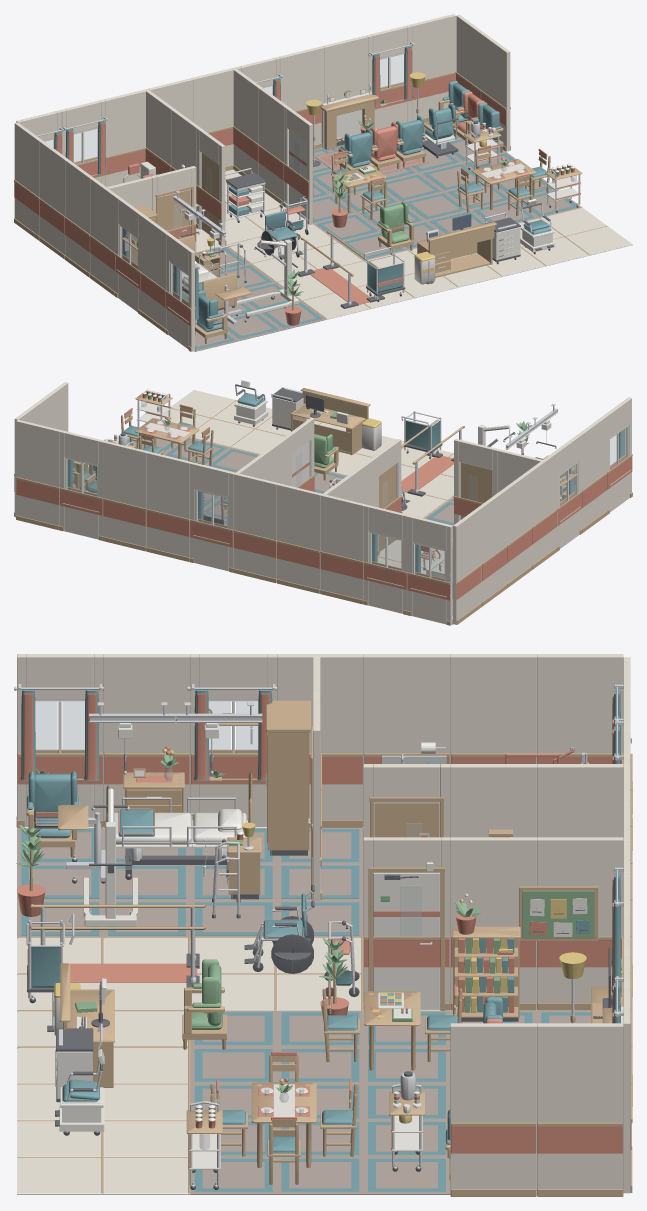
File: care-home-and-day-room-care-home-floor-cfe42faf-starter-scene__35769.glb
3 renders of one model, top to bottom at view 1: azimuth 30°, elevation 25°; view 2: azimuth 150°, elevation 25°; view 3: azimuth 270°, elevation 25°, orthographic. The views are drawn at different scales.
Parts seen in each view (by area): view 1: 079-care-home-wall-module/0, 072-care-home-wall-module/0, 076-care-home-wall-module/0, 077-care-home-wall-module/0, 074-care-home-wall-module/0, 154-nurse-station-desk/0, 082-care-home-wall-module/0, 083-care-home-wall-module/0, 088-care-home-wall-module/0, 080-care-home-wall-module/0, 085-care-home-wall-module/0, 081-care-home-wall-module/0 (+77 smaller); view 2: 077-care-home-wall-module/0, 073-care-home-wall-module/0, 074-care-home-wall-module/0, 079-care-home-wall-module/0, 072-care-home-wall-module/0, 076-care-home-wall-module/0, 070-bedroom-window-module/0, 078-bedroom-window-module/0, 071-bedroom-window-module/0, 075-bedroom-window-module/0, 154-nurse-station-desk/0, 080-care-home-wall-module/0 (+66 smaller); view 3: 087-care-home-wall-module/0, 088-care-home-wall-module/0, 081-care-home-wall-module/0, 082-care-home-wall-module/0, 085-care-home-wall-module/0, 080-care-home-wall-module/0, 083-care-home-wall-module/0, 093-care-home-wall-module/0, 092-care-home-wall-module/0, 100-bedroom-wardrobe/0, 089-care-home-wall-module/0, 090-care-home-wall-module/0 (+127 smaller).
Part boxes in pixels (left/top/right/bottom): 079-care-home-wall-module/0: left=410, top=14, right=455, bottom=120; 072-care-home-wall-module/0: left=104, top=89, right=148, bottom=186; 076-care-home-wall-module/0: left=279, top=46, right=324, bottom=144; 077-care-home-wall-module/0: left=323, top=35, right=368, bottom=102; 074-care-home-wall-module/0: left=191, top=67, right=236, bottom=166; 154-nurse-station-desk/0: left=417, top=222, right=496, bottom=277; 082-care-home-wall-module/0: left=65, top=159, right=93, bottom=273; 083-care-home-wall-module/0: left=90, top=178, right=118, bottom=291; 088-care-home-wall-module/0: left=481, top=33, right=510, bottom=151; 080-care-home-wall-module/0: left=14, top=122, right=42, bottom=236; 085-care-home-wall-module/0: left=141, top=215, right=169, bottom=328; 081-care-home-wall-module/0: left=40, top=141, right=68, bottom=254; 077-care-home-wall-module/0: left=103, top=441, right=148, bottom=550; 073-care-home-wall-module/0: left=277, top=483, right=321, bottom=593; 074-care-home-wall-module/0: left=233, top=472, right=278, bottom=582; 079-care-home-wall-module/0: left=16, top=419, right=61, bottom=525; 072-care-home-wall-module/0: left=320, top=494, right=365, bottom=600; 076-care-home-wall-module/0: left=146, top=451, right=191, bottom=557; 070-bedroom-window-module/0: left=407, top=515, right=452, bottom=625; 078-bedroom-window-module/0: left=59, top=430, right=104, bottom=539; 071-bedroom-window-module/0: left=364, top=504, right=408, bottom=613; 075-bedroom-window-module/0: left=190, top=462, right=234, bottom=571; 154-nurse-station-desk/0: left=291, top=388, right=370, bottom=455; 080-care-home-wall-module/0: left=453, top=507, right=481, bottom=624; 087-care-home-wall-module/0: left=537, top=1023, right=623, bottom=1196; 088-care-home-wall-module/0: left=450, top=1023, right=536, bottom=1196; 081-care-home-wall-module/0: left=450, top=654, right=536, bottom=763; 082-care-home-wall-module/0: left=363, top=654, right=450, bottom=763; 085-care-home-wall-module/0: left=103, top=654, right=190, bottom=826; 080-care-home-wall-module/0: left=537, top=654, right=623, bottom=763; 083-care-home-wall-module/0: left=277, top=654, right=363, bottom=826; 093-care-home-wall-module/0: left=450, top=837, right=536, bottom=1009; 092-care-home-wall-module/0: left=537, top=837, right=623, bottom=1009; 100-bedroom-wardrobe/0: left=266, top=700, right=310, bottom=850; 089-care-home-wall-module/0: left=537, top=764, right=623, bottom=837; 090-care-home-wall-module/0: left=450, top=764, right=536, bottom=837.
Bounding box in the file's own units: 12.25 × 2.62 × 8.57.
